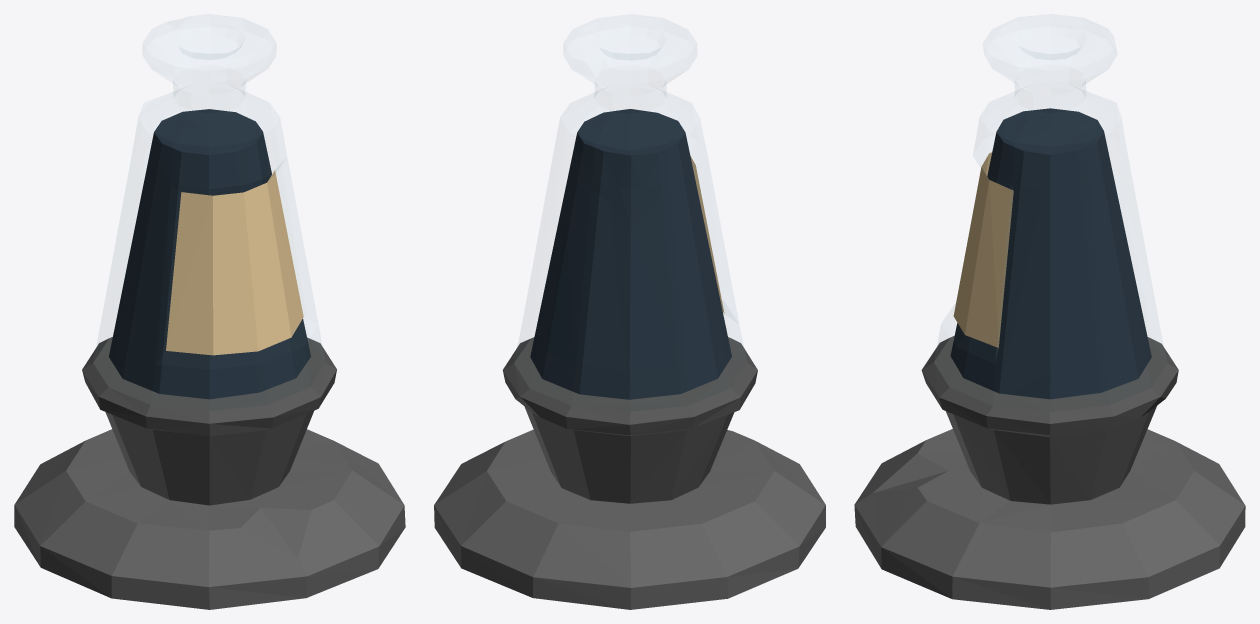
Rendered from SFHW_Inkwell.fbx.
3 renders of one model, left to right at view 1: azimuth 30°, elevation 25°; view 2: azimuth 150°, elevation 25°; view 3: azimuth 270°, elevation 25°, orthographic.
Parts seen in each view (by area): view 1: SFHW_Inkwell; view 2: SFHW_Inkwell; view 3: SFHW_Inkwell.
Boxes of the visible parts, x1,y1,x2,y2 form: SFHW_Inkwell: (14, 41, 405, 609); SFHW_Inkwell: (434, 47, 825, 609); SFHW_Inkwell: (854, 40, 1245, 609).
Bounding box in the file's own units: 10.01 × 13.85 × 10.
